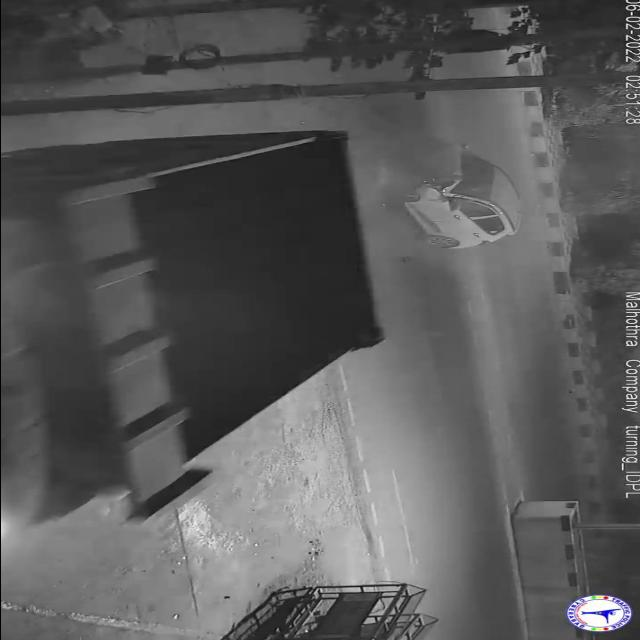accident: (395, 136, 525, 254)
